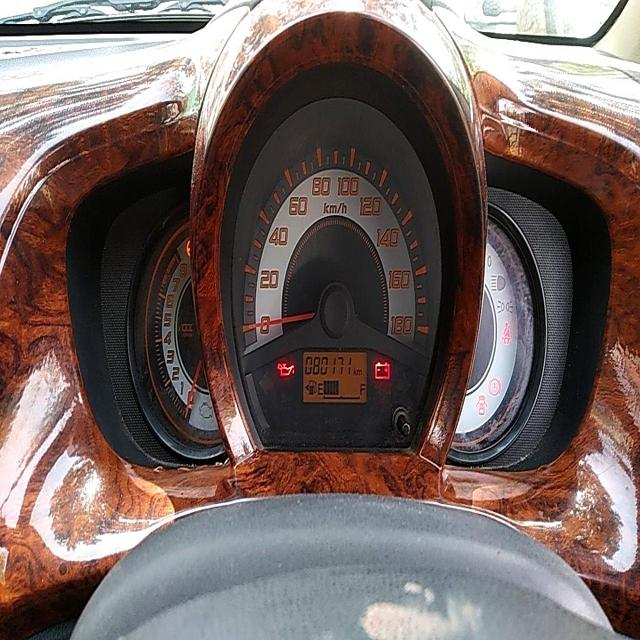odometer: (303, 352, 353, 375)
